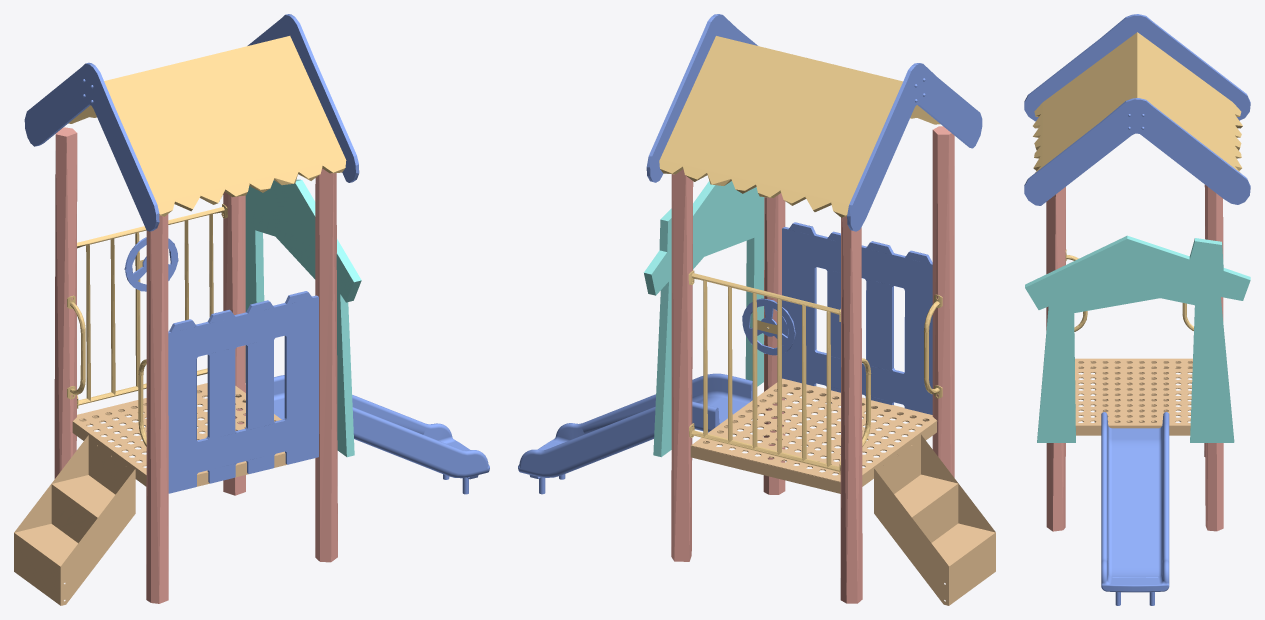
Rendered from slide1.fbx.
3 views of the same model, side by side, from view 1: azimuth 30°, elevation 25°; view 2: azimuth 150°, elevation 25°; view 3: azimuth 270°, elevation 25° (orthographic). The views are drawn at different scales.
Visible parts, largest first — view 1: Line10917, 1mpostwroof045, Group_021, RIA Staircase 0.7m:1.001, Arc04, Line009, Mini Slide Leg (wall plug):1, Rectangle02.001, RIA Steering Wheel Rail 800L:1.001, RIA Loop Handle 575L:2, PE Steering Wheel:1; view 2: Line10917, 1mpostwroof045, Group_021, RIA Staircase 0.7m:1.001, Rectangle02.001, Line009, Arc04, Mini Slide Leg (wall plug):1, RIA Steering Wheel Rail 800L:1.001, PE Steering Wheel:1, RIA Loop Handle 575L:2; view 3: Line009, Arc04, Line10917, Mini Slide Leg (wall plug):1, Rectangle02.001, 1mpostwroof045, RIA Staircase 0.7m:1.001, RIA Loop Handle 575L:2.
Boxes of the visible parts, left/top/right/bottom form: Line10917: left=68, top=36, right=346, bottom=216; 1mpostwroof045: left=54, top=127, right=337, bottom=603; Group_021: left=168, top=291, right=318, bottom=493; RIA Staircase 0.7m:1.001: left=14, top=435, right=135, bottom=605; Arc04: left=24, top=14, right=359, bottom=231; Line009: left=245, top=179, right=361, bottom=457; Mini Slide Leg (wall plug):1: left=274, top=375, right=489, bottom=494; Rectangle02.001: left=72, top=383, right=286, bottom=486; RIA Steering Wheel Rail 800L:1.001: left=77, top=204, right=227, bottom=408; RIA Loop Handle 575L:2: left=67, top=295, right=146, bottom=446; PE Steering Wheel:1: left=124, top=237, right=178, bottom=291; Line10917: left=659, top=36, right=940, bottom=217; 1mpostwroof045: left=671, top=126, right=954, bottom=603; Group_021: left=782, top=222, right=932, bottom=414; RIA Staircase 0.7m:1.001: left=874, top=434, right=995, bottom=605; Rectangle02.001: left=690, top=378, right=937, bottom=493; Line009: left=644, top=181, right=764, bottom=457; Arc04: left=646, top=14, right=982, bottom=231; Mini Slide Leg (wall plug):1: left=518, top=373, right=752, bottom=494; RIA Steering Wheel Rail 800L:1.001: left=688, top=270, right=840, bottom=474; PE Steering Wheel:1: left=742, top=298, right=796, bottom=355; RIA Loop Handle 575L:2: left=862, top=294, right=942, bottom=446; Line009: left=1025, top=235, right=1250, bottom=442; Arc04: left=1024, top=14, right=1250, bottom=205; Line10917: left=1033, top=32, right=1242, bottom=172; Mini Slide Leg (wall plug):1: left=1101, top=412, right=1169, bottom=605; Rectangle02.001: left=1075, top=358, right=1192, bottom=435; 1mpostwroof045: left=1046, top=184, right=1223, bottom=531; RIA Staircase 0.7m:1.001: left=1094, top=372, right=1168, bottom=422; RIA Loop Handle 575L:2: left=1065, top=249, right=1193, bottom=331.
Size of the model in its own units: 268 by 300 by 140.
